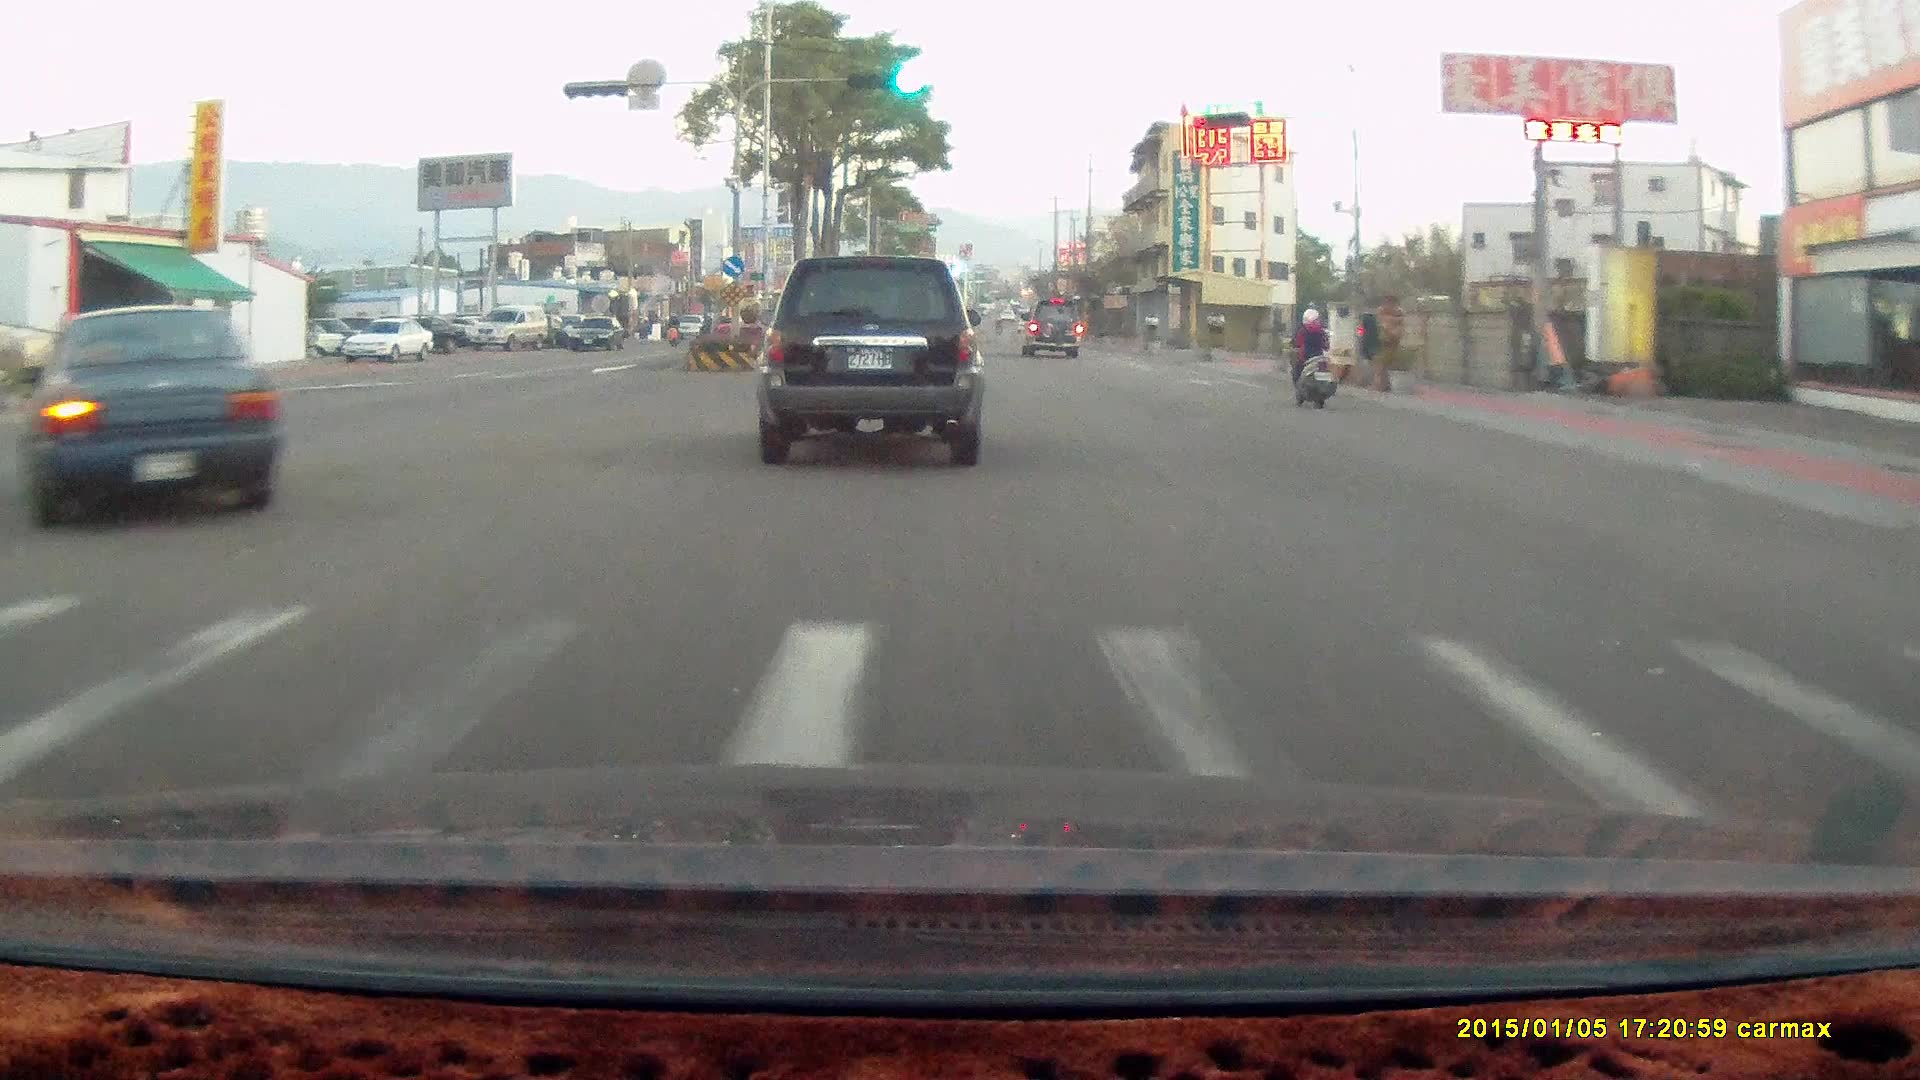rider: (1277, 296, 1347, 415), (1283, 304, 1336, 411)
vehicle: (13, 303, 281, 527), (29, 303, 282, 527), (762, 252, 993, 466), (756, 252, 985, 466), (343, 317, 432, 364), (340, 317, 430, 363), (465, 304, 549, 354), (466, 302, 547, 350), (1024, 298, 1084, 361), (1018, 298, 1081, 357), (385, 314, 466, 352), (566, 316, 624, 349), (567, 317, 625, 350)
